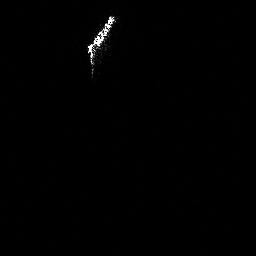ship: (83, 12, 119, 77)
